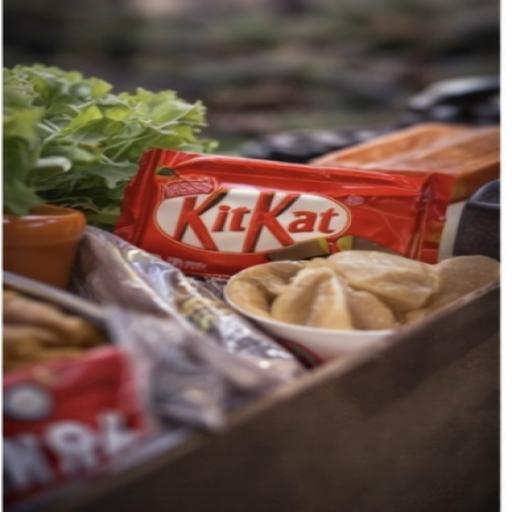kitkat: (54, 102, 502, 300)
